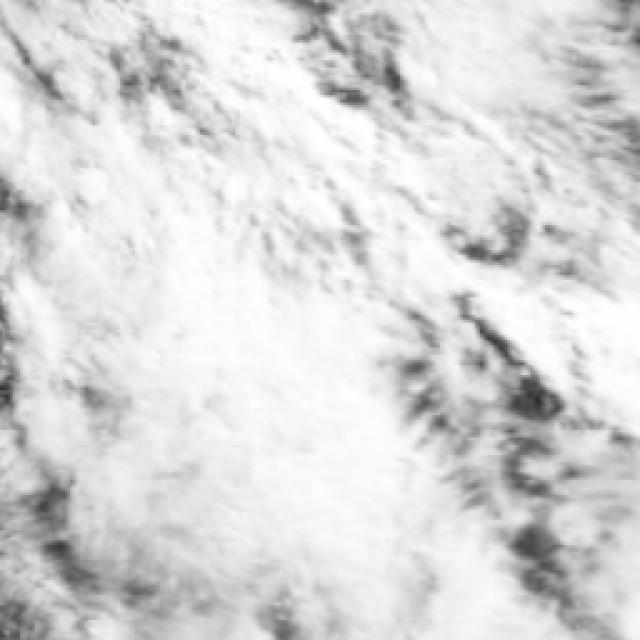CB: (43, 167, 240, 370), (178, 290, 348, 505), (234, 440, 421, 610), (203, 70, 350, 216)
